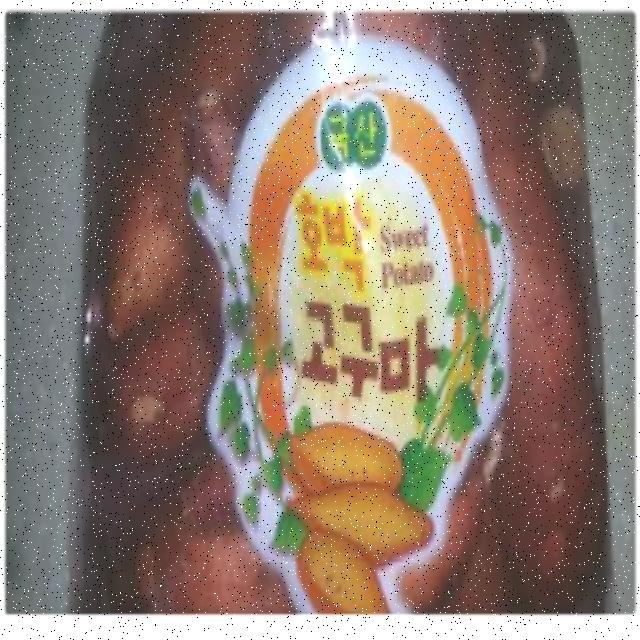Sweet Potato: (73, 0, 610, 618)
